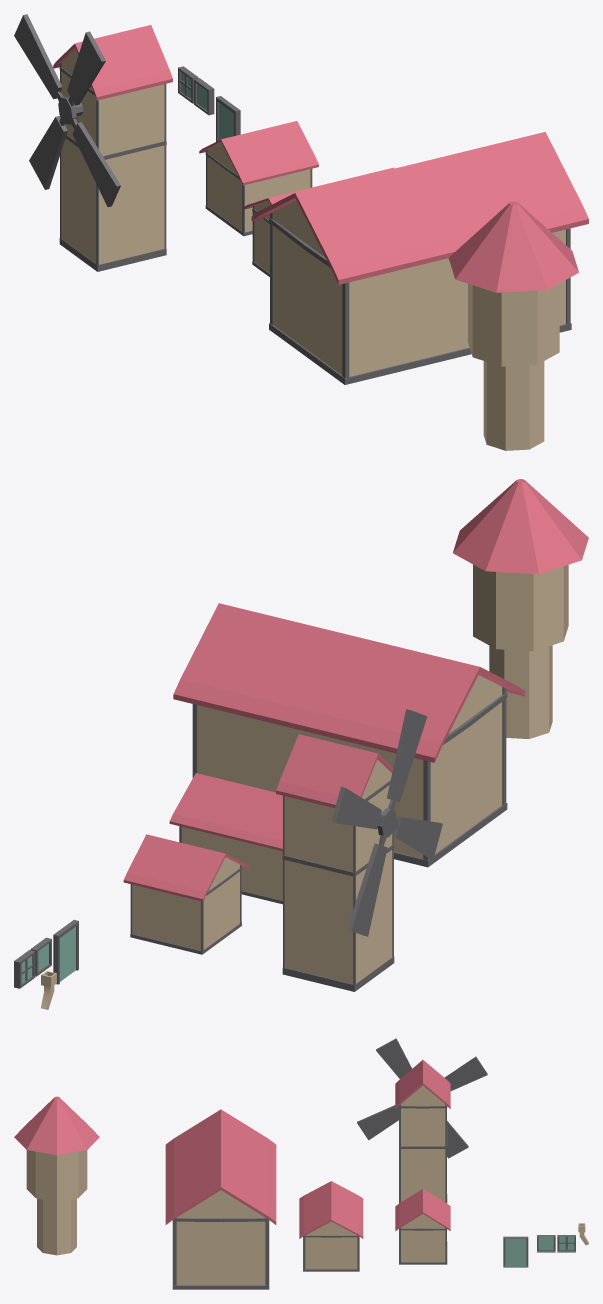
File: Houses.fbx
3 views of the same model, one above another, from view 1: azimuth 30°, elevation 25°; view 2: azimuth 150°, elevation 25°; view 3: azimuth 270°, elevation 25° (orthographic). The views are drawn at different scales.
Parts seen in each view (by area): view 1: Roof (×2), House (×2), Tower, House1 (×2), Roof1 (×2), Blades, House2, Door, Beam1, Window; view 2: Roof (×2), Tower, House (×2), House1 (×2), Roof1 (×2), Blades, House2, Door, Window1; view 3: Roof (×2), House (×2), Tower, Roof1 (×2), House1 (×2), Blades, House2, Door, Window, Window1.
Boxes of the visible parts, box(x1,y1,x2,y2) form: Roof (×2): box(243, 132, 588, 284); House (×2): box(252, 213, 571, 384); Tower: box(448, 201, 578, 450); House1 (×2): box(59, 138, 310, 271); Roof1 (×2): box(53, 25, 318, 185); Blades: box(14, 14, 120, 206); House2: box(61, 72, 166, 159); Door: box(216, 96, 240, 141); Beam1: box(342, 282, 349, 378); Window: box(194, 78, 214, 115); Roof (×2): box(169, 603, 525, 851); Tower: box(453, 479, 588, 738); House (×2): box(182, 702, 507, 904); House1 (×2): box(130, 850, 394, 991); Roof1 (×2): box(123, 734, 393, 901); Blades: box(331, 709, 442, 936); House2: box(282, 785, 394, 876); Door: box(53, 920, 78, 984); Window1: box(14, 950, 35, 988); Roof (×2): box(165, 1109, 363, 1238); House (×2): box(172, 1221, 359, 1289); Tower: box(14, 1096, 99, 1255); Roof1 (×2): box(395, 1060, 450, 1231); House1 (×2): box(399, 1149, 447, 1264); Blades: box(357, 1038, 487, 1158); House2: box(399, 1108, 447, 1148); Door: box(503, 1236, 528, 1267); Window: box(537, 1235, 555, 1252); Window1: box(557, 1235, 575, 1252).
Bounding box in the file's own units: 126 × 93.23 × 306.
